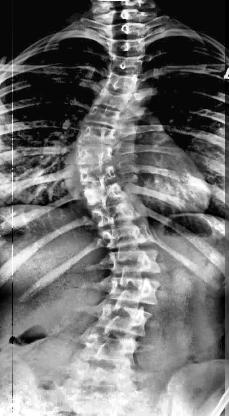Vertebrae: (82, 332, 140, 370), (100, 216, 160, 250), (96, 303, 152, 337), (104, 274, 165, 304), (108, 246, 165, 276), (86, 199, 140, 229), (82, 178, 128, 210), (76, 161, 122, 187), (82, 105, 124, 131), (105, 35, 149, 59), (74, 142, 118, 166), (98, 68, 138, 94), (76, 122, 119, 146), (107, 54, 147, 78), (94, 88, 132, 110)
